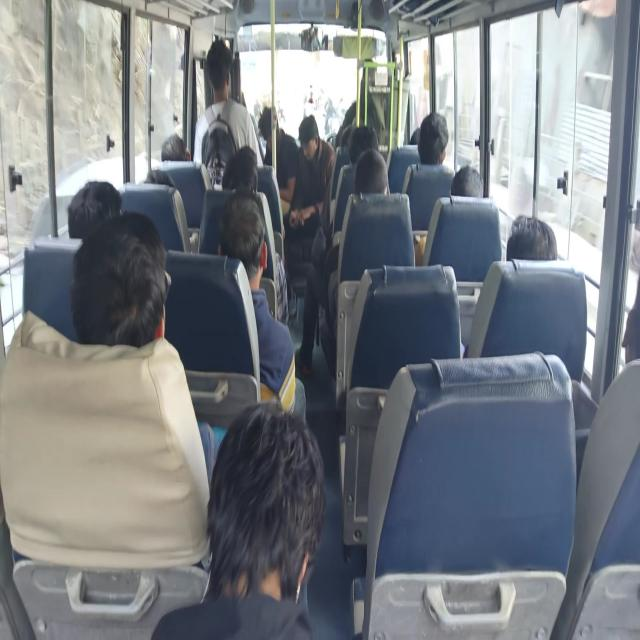person: (0, 211, 213, 570), (151, 399, 326, 639), (296, 148, 390, 376), (217, 192, 306, 420), (462, 214, 558, 356), (220, 146, 292, 326), (193, 38, 264, 186), (286, 114, 336, 267), (402, 111, 454, 232), (257, 104, 299, 208), (67, 180, 122, 240), (506, 214, 558, 261), (221, 146, 258, 193), (417, 112, 449, 165), (354, 148, 389, 195), (348, 124, 379, 165), (450, 165, 484, 197), (160, 134, 190, 161)
